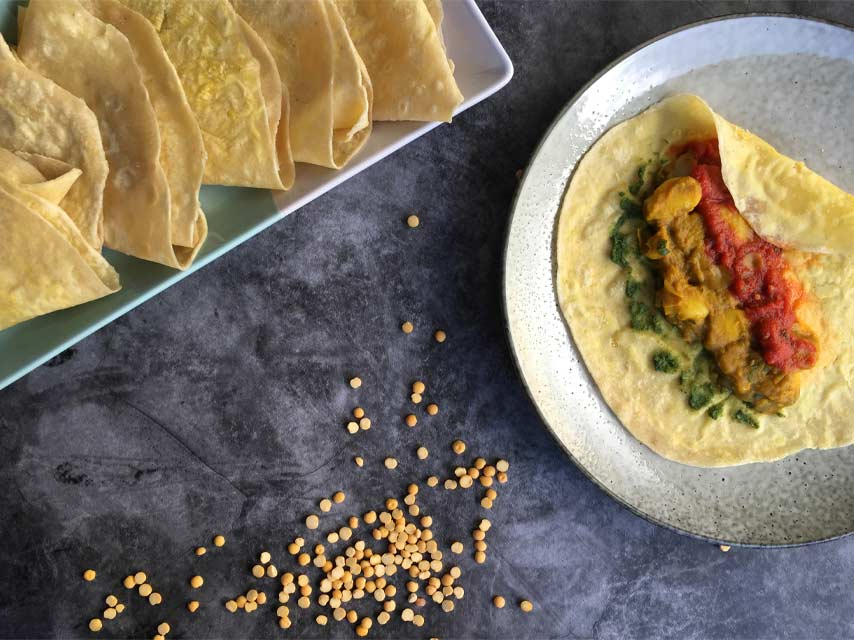Farata: (542, 96, 854, 481)
